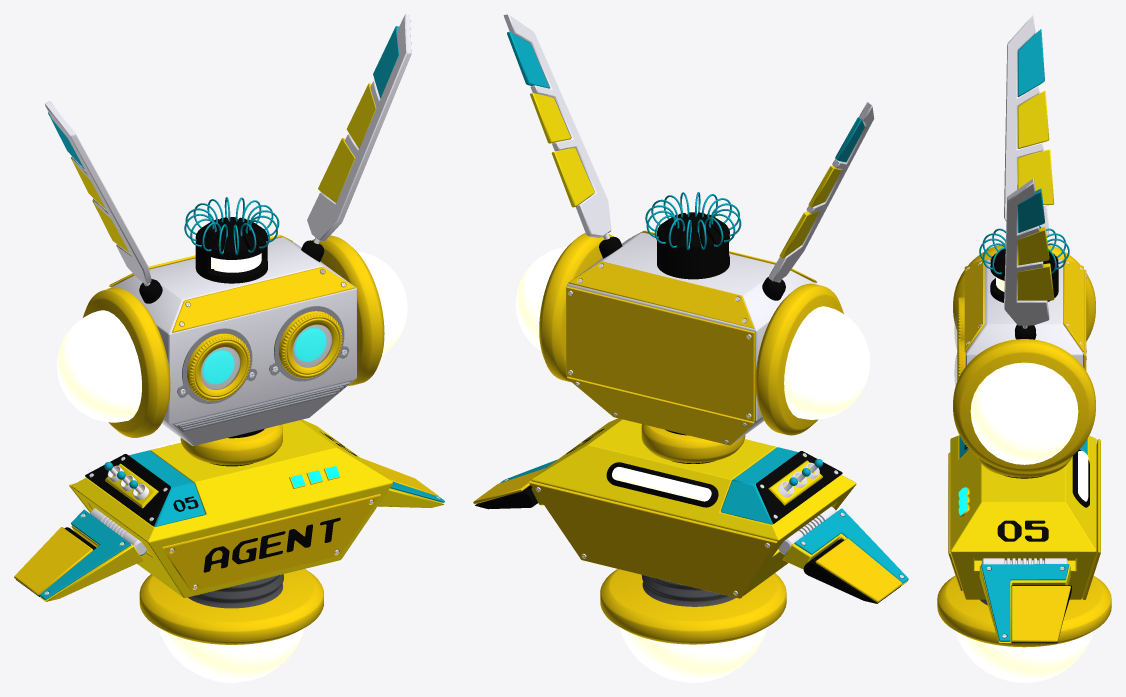
Rendered from bee_bot12_yellow.glb.
3 renders of one model, left to right at view 1: azimuth 30°, elevation 25°; view 2: azimuth 150°, elevation 25°; view 3: azimuth 270°, elevation 25°, orthographic. The views are drawn at different scales.
Parts seen in each view (by area): view 1: Yellow_body, Yellow_wing_right, Yellow_wing_left; view 2: Yellow_body, Yellow_wing_right, Yellow_wing_left; view 3: Yellow_body, Yellow_wing_left.
Part boxes in pixels (box(x1,y1,x2,y2)): Yellow_body: box(45, 14, 411, 682); Yellow_wing_right: box(14, 508, 147, 601); Yellow_wing_left: box(361, 458, 444, 507); Yellow_body: box(503, 14, 874, 682); Yellow_wing_right: box(778, 506, 908, 603); Yellow_wing_left: box(473, 459, 557, 509); Yellow_body: box(937, 14, 1111, 682); Yellow_wing_left: box(979, 558, 1071, 643).
Size of the model in its own units: 0.6985 by 1.02 by 0.278.
